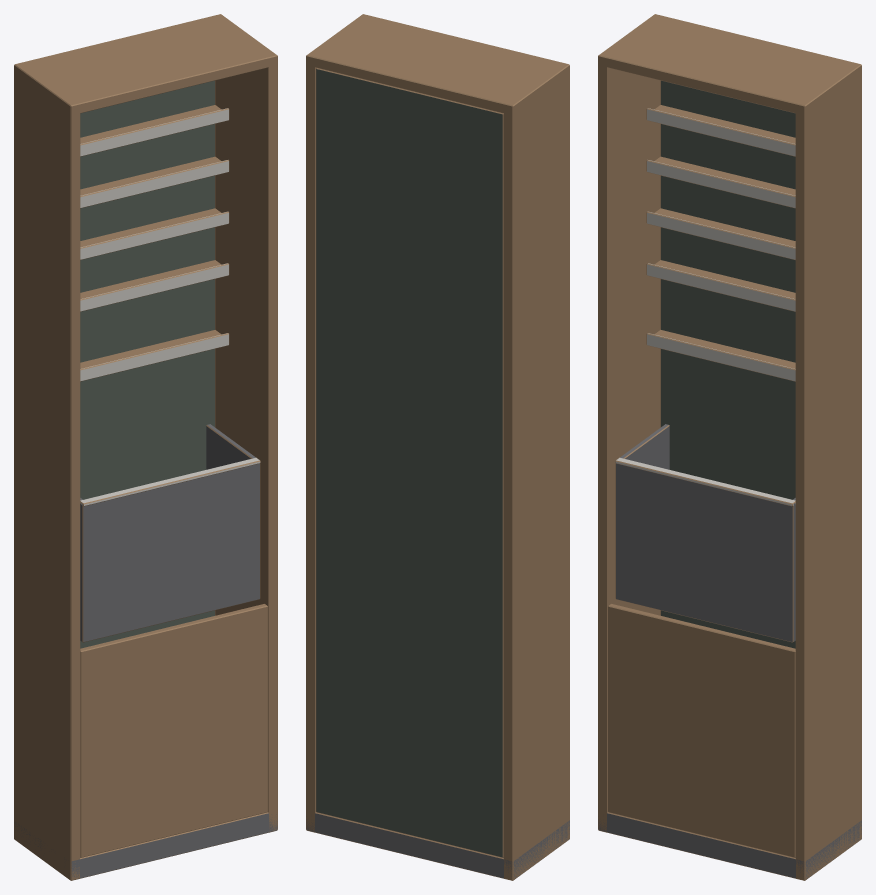
Rendered from cassette_rack.glb.
3 renders of one model, left to right at view 1: azimuth 30°, elevation 25°; view 2: azimuth 150°, elevation 25°; view 3: azimuth 330°, elevation 25°, orthographic.
Parts seen in each view (by area): view 1: CassetteRack; view 2: CassetteRack; view 3: CassetteRack.
Part boxes in pixels (box(x1,y1,x2,y2)): CassetteRack: box(14, 14, 277, 880); CassetteRack: box(306, 14, 569, 880); CassetteRack: box(598, 14, 861, 880).
Bounding box in the file's own units: 0.42 × 1.5 × 0.2.
